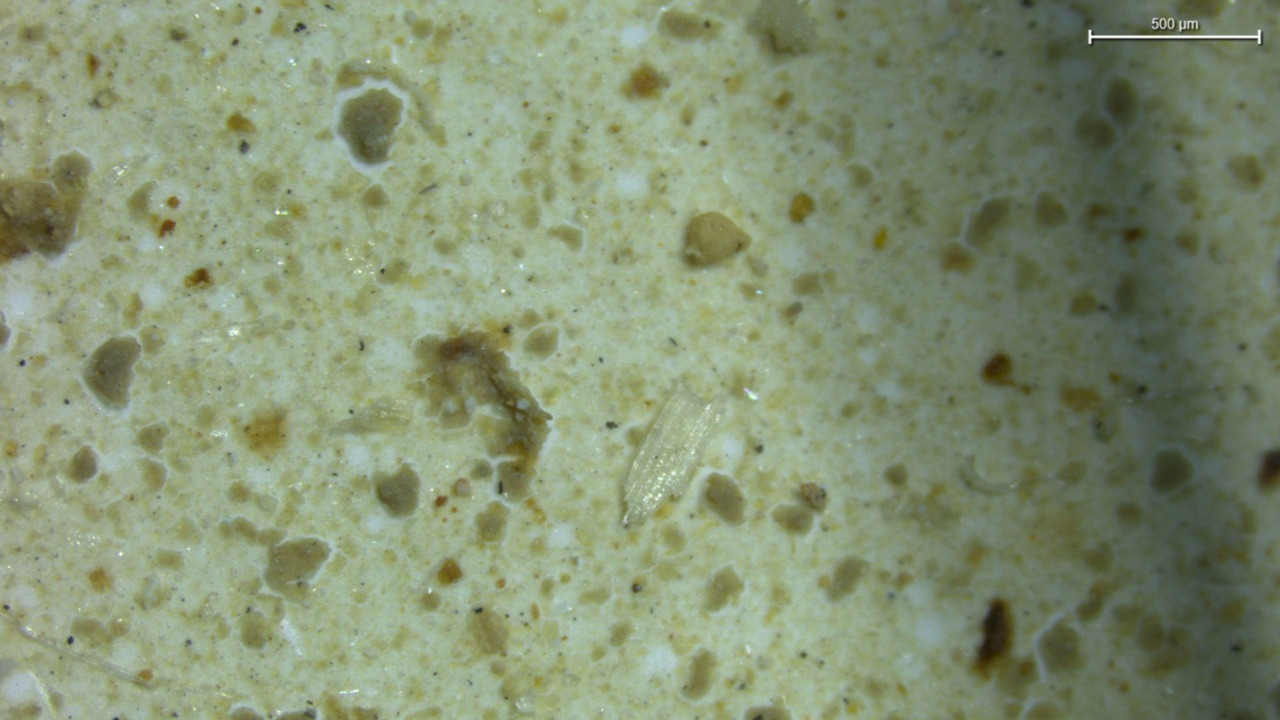microplastic_fragment: (623, 384, 723, 526), (682, 212, 750, 266)
